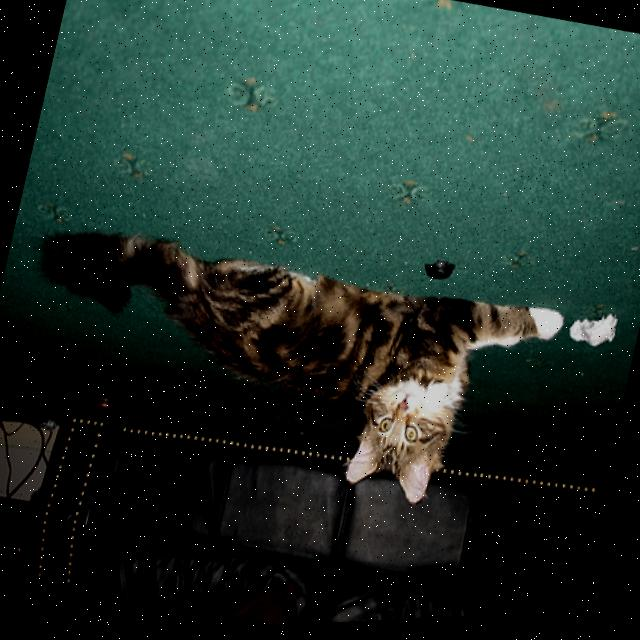Maine Coon: (0, 191, 567, 551)
